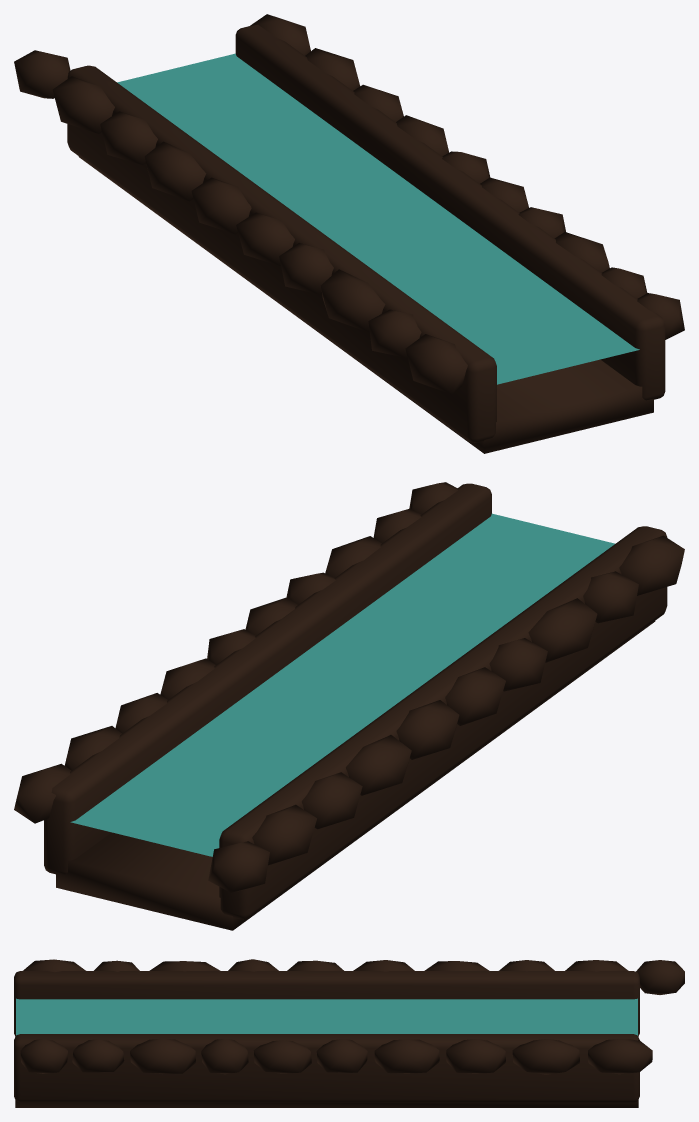
File: stream.glb
The picture shows the model from 3 angles, top to bottom: view 1: azimuth 30°, elevation 25°; view 2: azimuth 150°, elevation 25°; view 3: azimuth 270°, elevation 25°; orthographic projection. The views are drawn at different scales.
Visible parts, largest first — view 1: stream_outline, stream_water; view 2: stream_outline, stream_water; view 3: stream_outline, stream_water.
Boxes of the visible parts, x1=… form: stream_outline: x1=14, y1=14, x2=684, y2=453; stream_water: x1=117, y1=53, x2=639, y2=384; stream_outline: x1=14, y1=482, x2=684, y2=930; stream_water: x1=70, y1=513, x2=614, y2=856; stream_outline: x1=14, y1=959, x2=684, y2=1107; stream_water: x1=16, y1=998, x2=637, y2=1035.
Size of the model in its own units: 1.49 by 0.5482 by 4.32.
